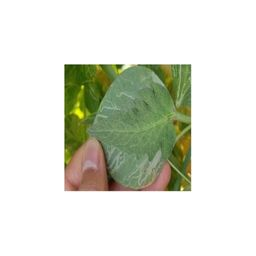liriomyza: (103, 143, 163, 190)
